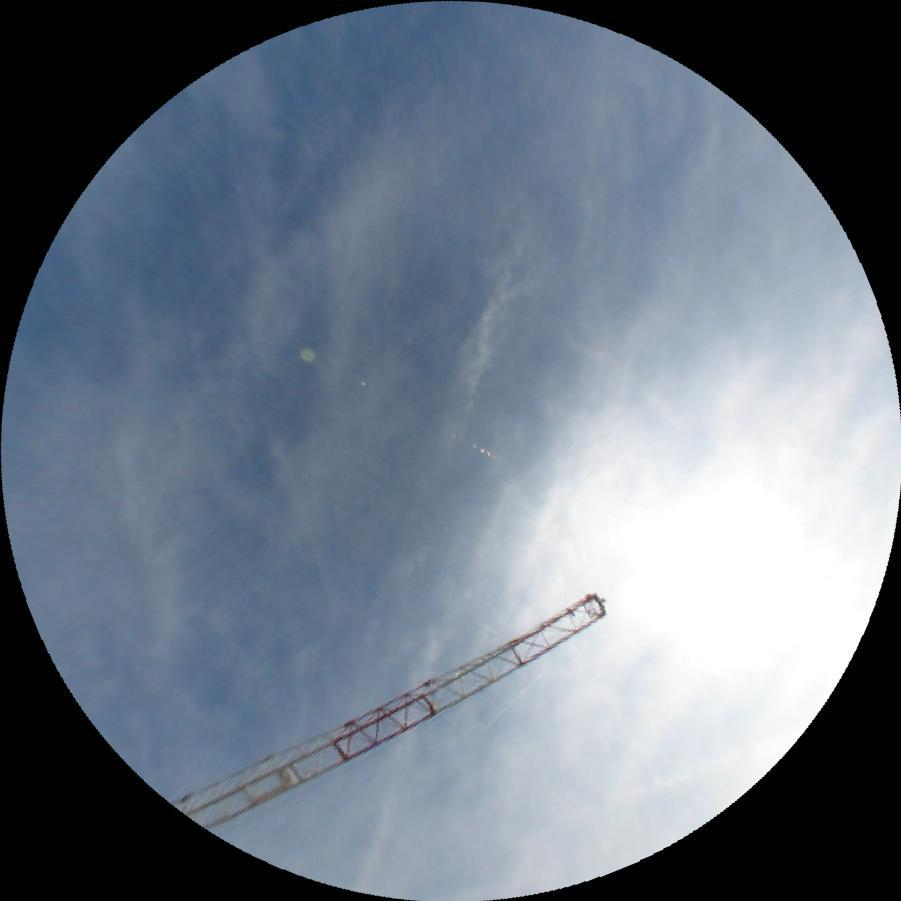contrail young: (464, 671, 541, 751)
